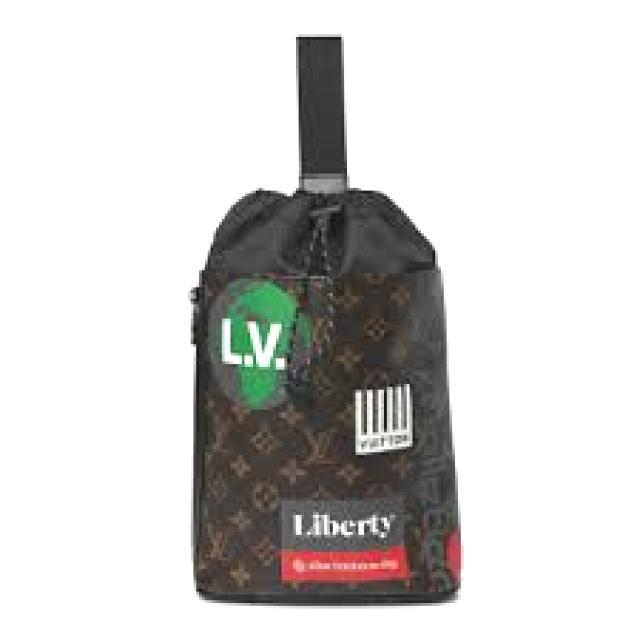backpack: (162, 185, 482, 617)
